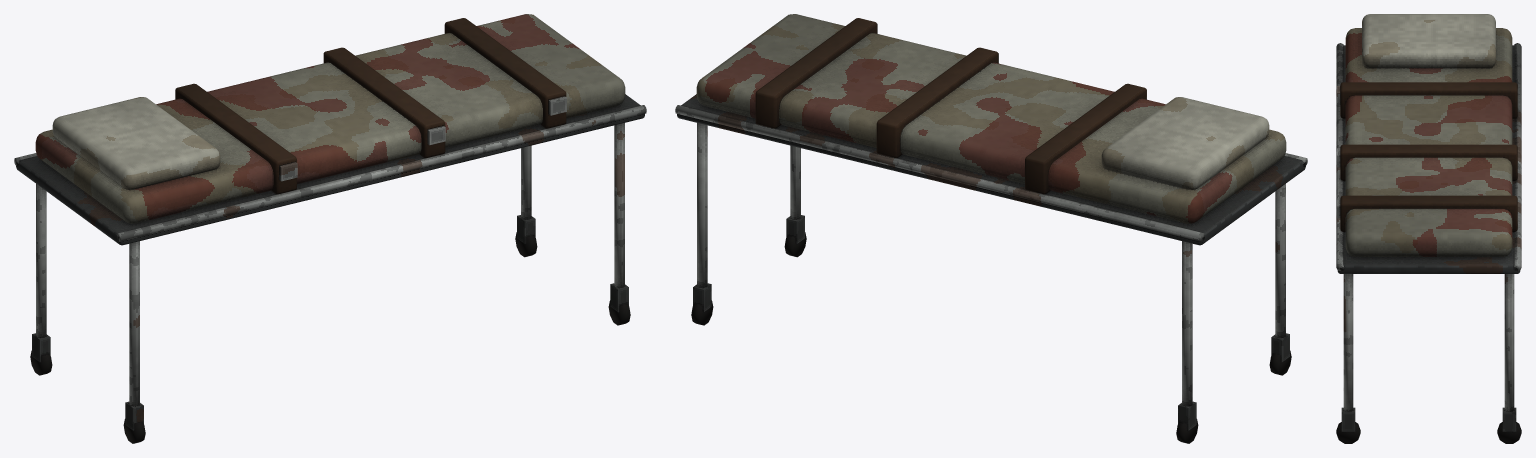
The model's file is gurney.glb.
3 views of the same model, side by side, from view 1: azimuth 30°, elevation 25°; view 2: azimuth 150°, elevation 25°; view 3: azimuth 270°, elevation 25° (orthographic). The views are drawn at different scales.
Parts seen in each view (by area): view 1: gurney; view 2: gurney; view 3: gurney.
Part boxes in pixels (x1=…): gurney: x1=14, y1=14, x2=646, y2=443; gurney: x1=675, y1=14, x2=1307, y2=443; gurney: x1=1336, y1=14, x2=1521, y2=443.
Bounding box in the file's own units: 1.95 × 0.9328 × 0.69.
Materials: 1 (1 with a texture image).
